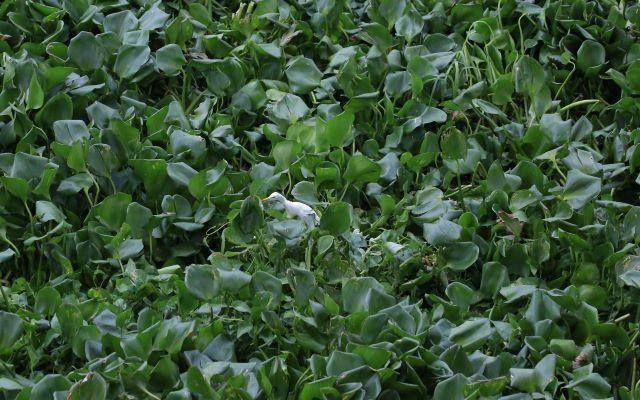water_hyacinth: (0, 222, 640, 400)
